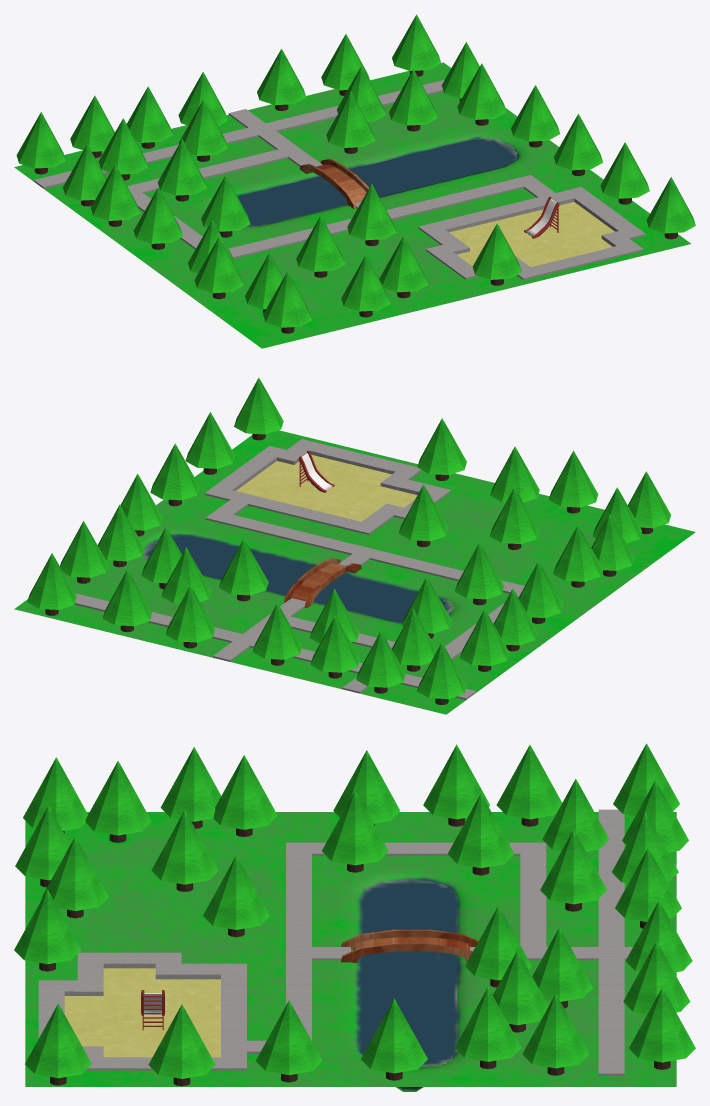
File: Bosque-PIA.glb
3 renders of one model, top to bottom at view 1: azimuth 30°, elevation 25°; view 2: azimuth 150°, elevation 25°; view 3: azimuth 270°, elevation 25°, orthographic. The views are drawn at different scales.
Visible parts, largest first — view 1: polySurface35; view 2: polySurface35; view 3: polySurface35.
Boxes of the visible parts, box(x1,y1,x2,y2) form: polySurface35: box(14, 14, 695, 348); polySurface35: box(14, 377, 695, 714); polySurface35: box(14, 743, 695, 1091).
Bounding box in the file's own units: 8.45 × 1.66 × 8.42.
1 material, 1 textured.
